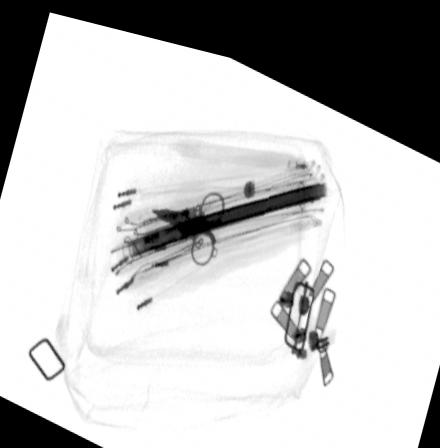Scissors: (149, 178, 227, 255)
